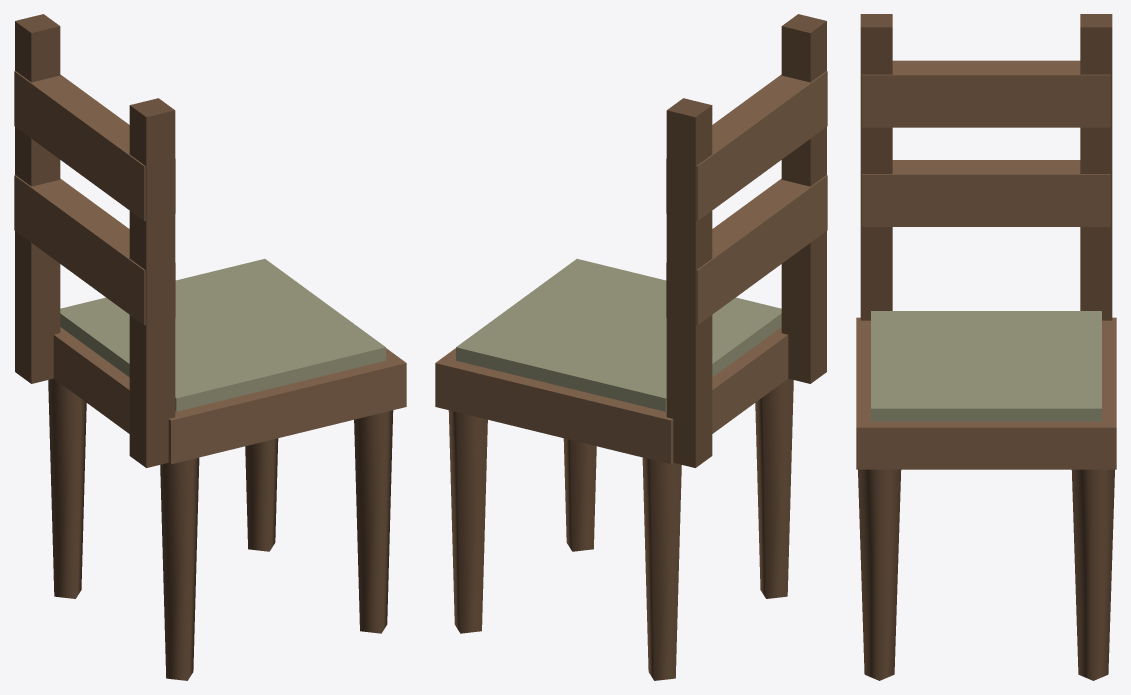
Rendered from chair.glb.
3 views of the same model, side by side, from view 1: azimuth 30°, elevation 25°; view 2: azimuth 150°, elevation 25°; view 3: azimuth 270°, elevation 25° (orthographic). The views are drawn at different scales.
Size of the model in its own units: 0.495 by 1.05 by 0.45.
